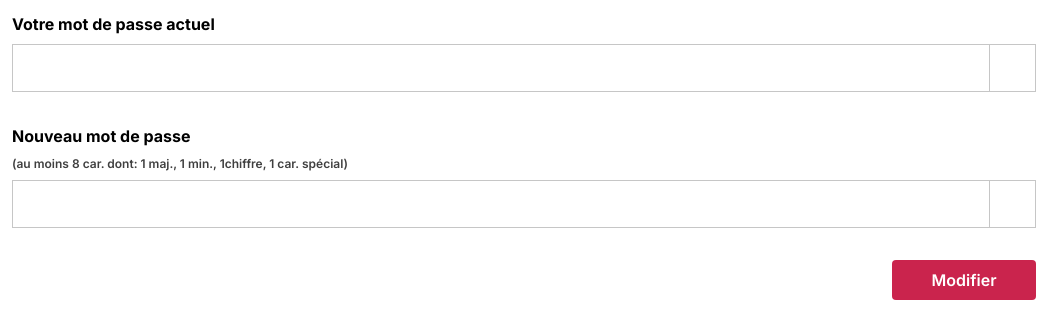
Test: UpdatePasswordForm › should display an error if credentials are invalid or server error
The image size is (1048, 317).
Renseignement de données invalides dans les champs
In the password field labelled "Votre mot de passe actuel": (501, 68) [12, 44, 990, 92], type "invalid current password"
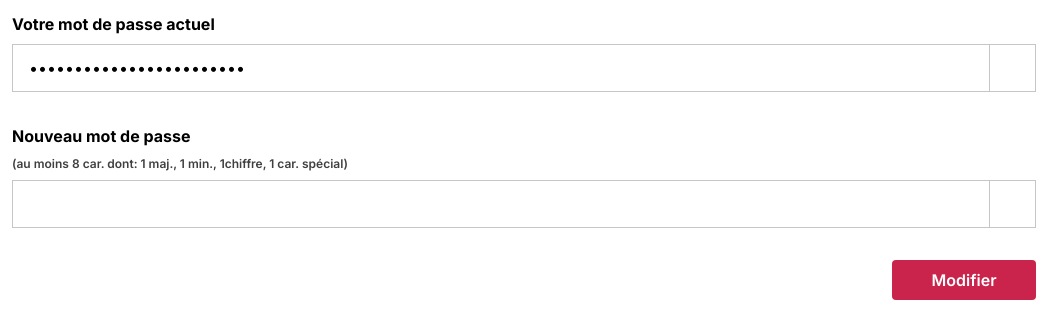
In the password field labelled "Nouveau mot de passe": (501, 204) [12, 180, 990, 228], type "invalid new password"
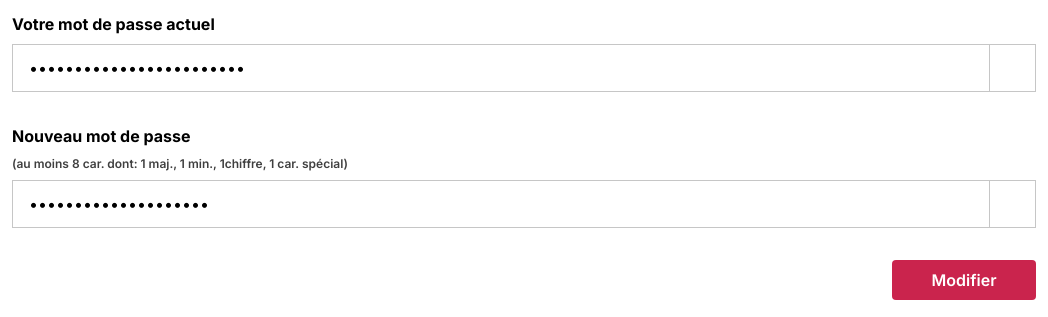
Submit the form from the button "Modifier", box [892, 260, 1036, 300]
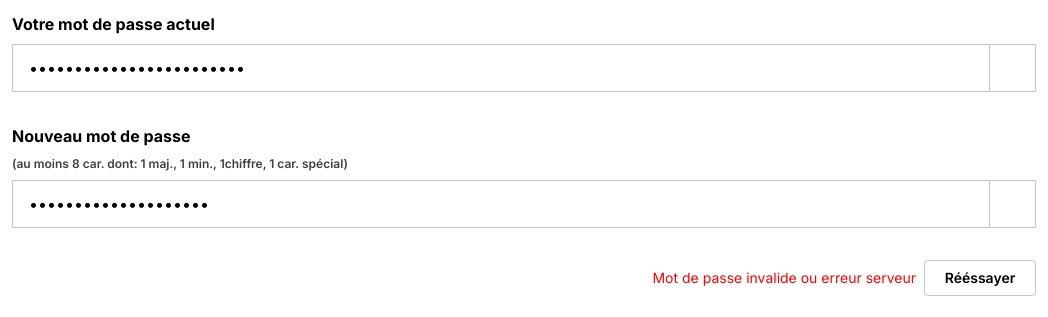
Expected: the text "Mot de passe invalide ou erreur serveur" is shown, [652, 268, 916, 288]
